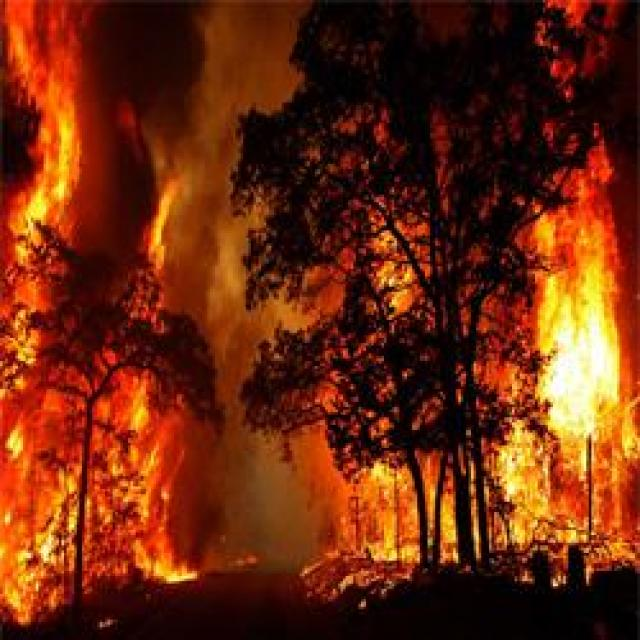fire: (98, 381, 195, 587), (1, 409, 78, 620), (545, 267, 624, 427), (26, 80, 84, 224), (367, 465, 424, 566)
smoke: (79, 4, 243, 115), (253, 432, 343, 557), (176, 95, 234, 272)
